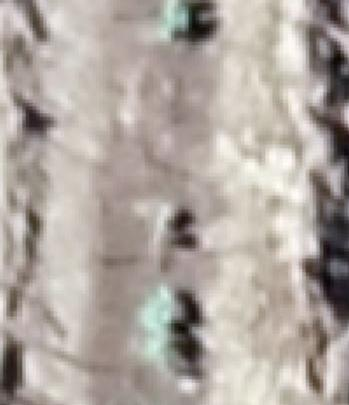cotton: (147, 329, 178, 360), (149, 295, 176, 321), (165, 5, 187, 30)
